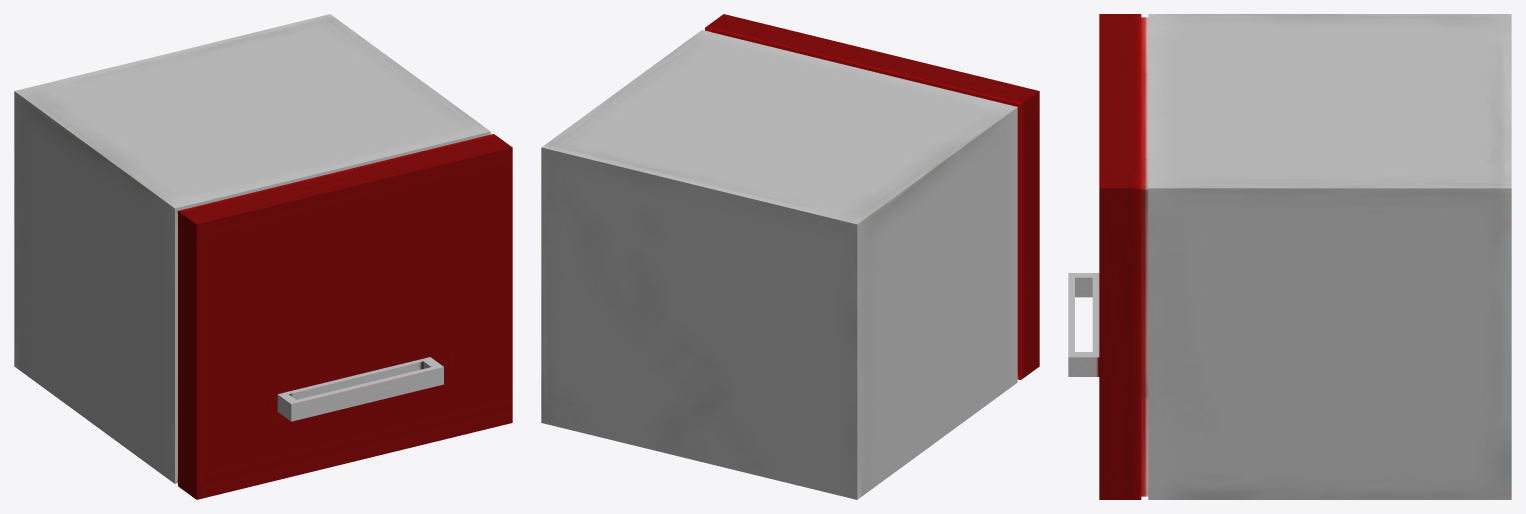
The model's file is mensola cucina1.FBX.
The picture shows the model from 3 angles, left to right: view 1: azimuth 30°, elevation 25°; view 2: azimuth 150°, elevation 25°; view 3: azimuth 270°, elevation 25°; orthographic projection. The views are drawn at different scales.
Parts seen in each view (by area): view 1: mensola; view 2: mensola; view 3: mensola.
Boxes of the visible parts, box(x1,y1,x2,y2) form: mensola: box(14, 14, 512, 499); mensola: box(541, 14, 1039, 499); mensola: box(1068, 14, 1511, 499).
Bounding box in the file's own units: 0.6 × 0.5 × 0.645.
